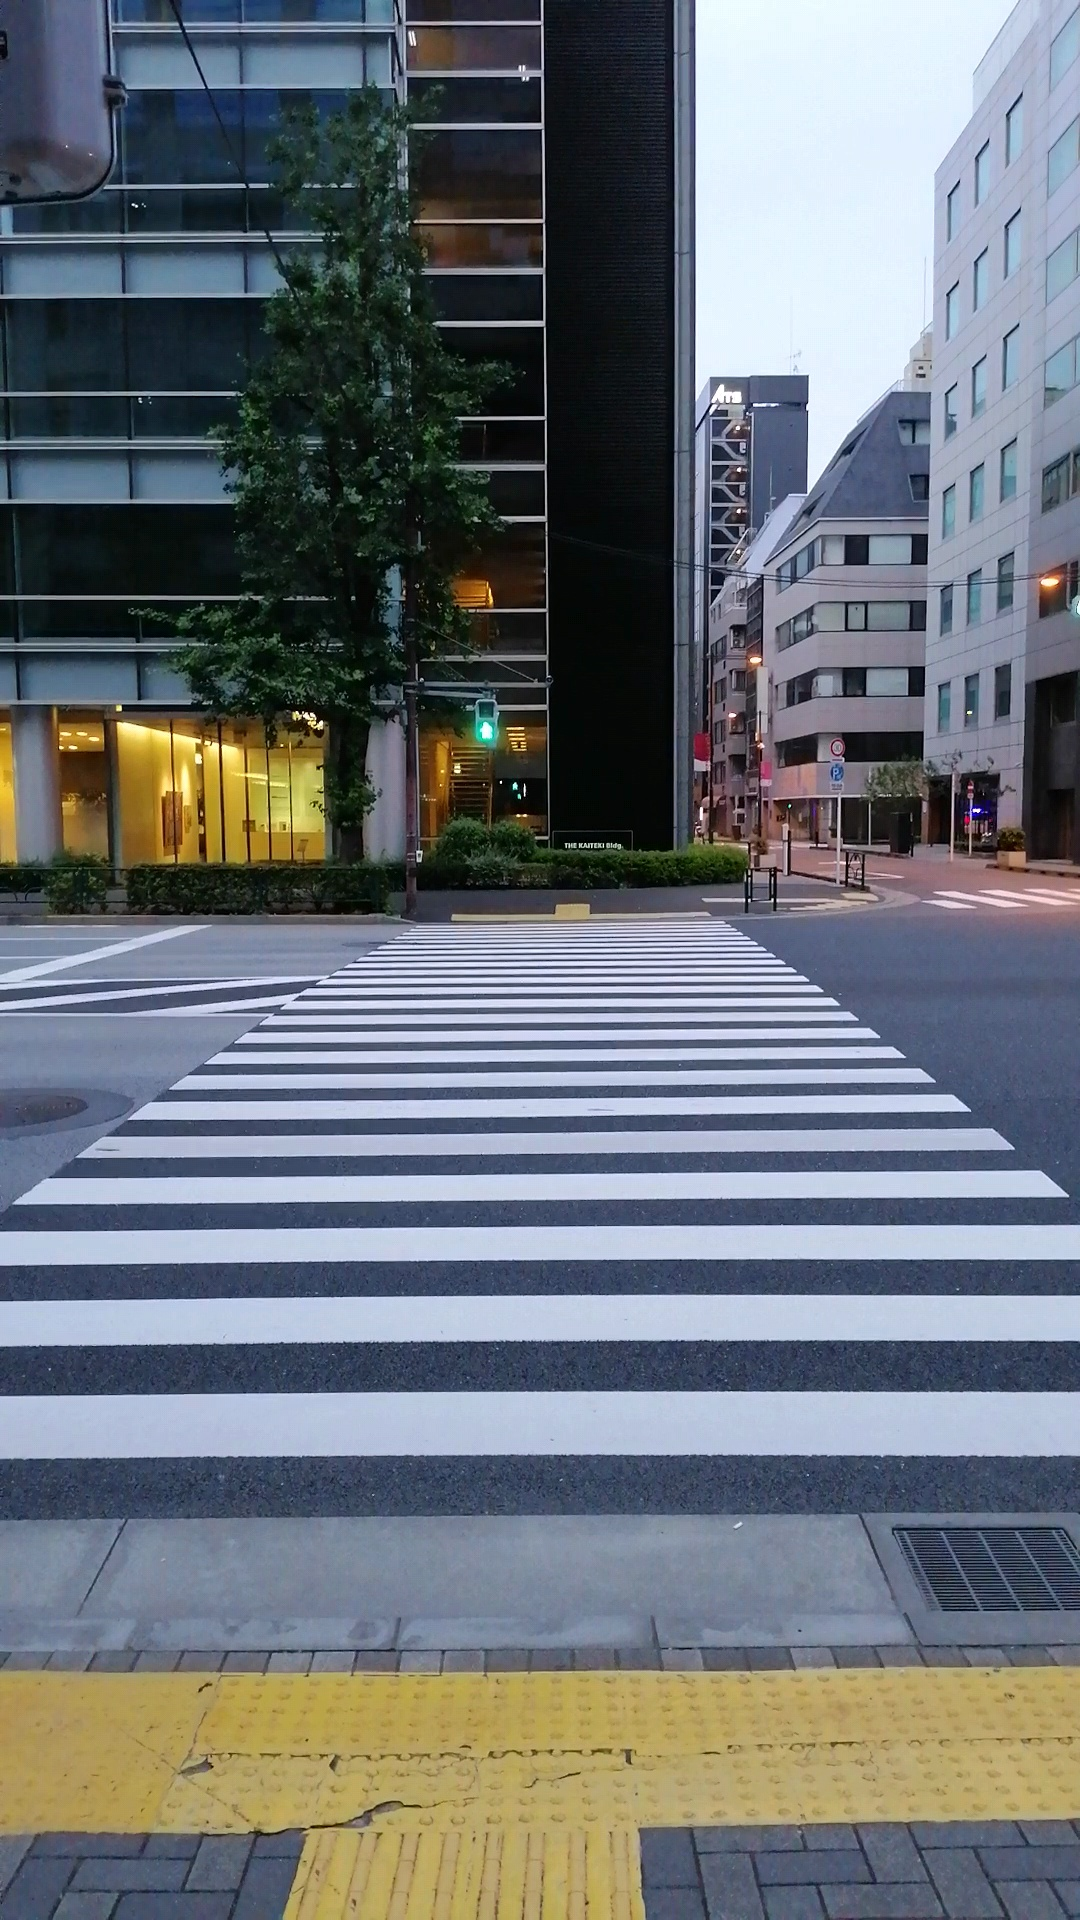green: (469, 698, 500, 745)
